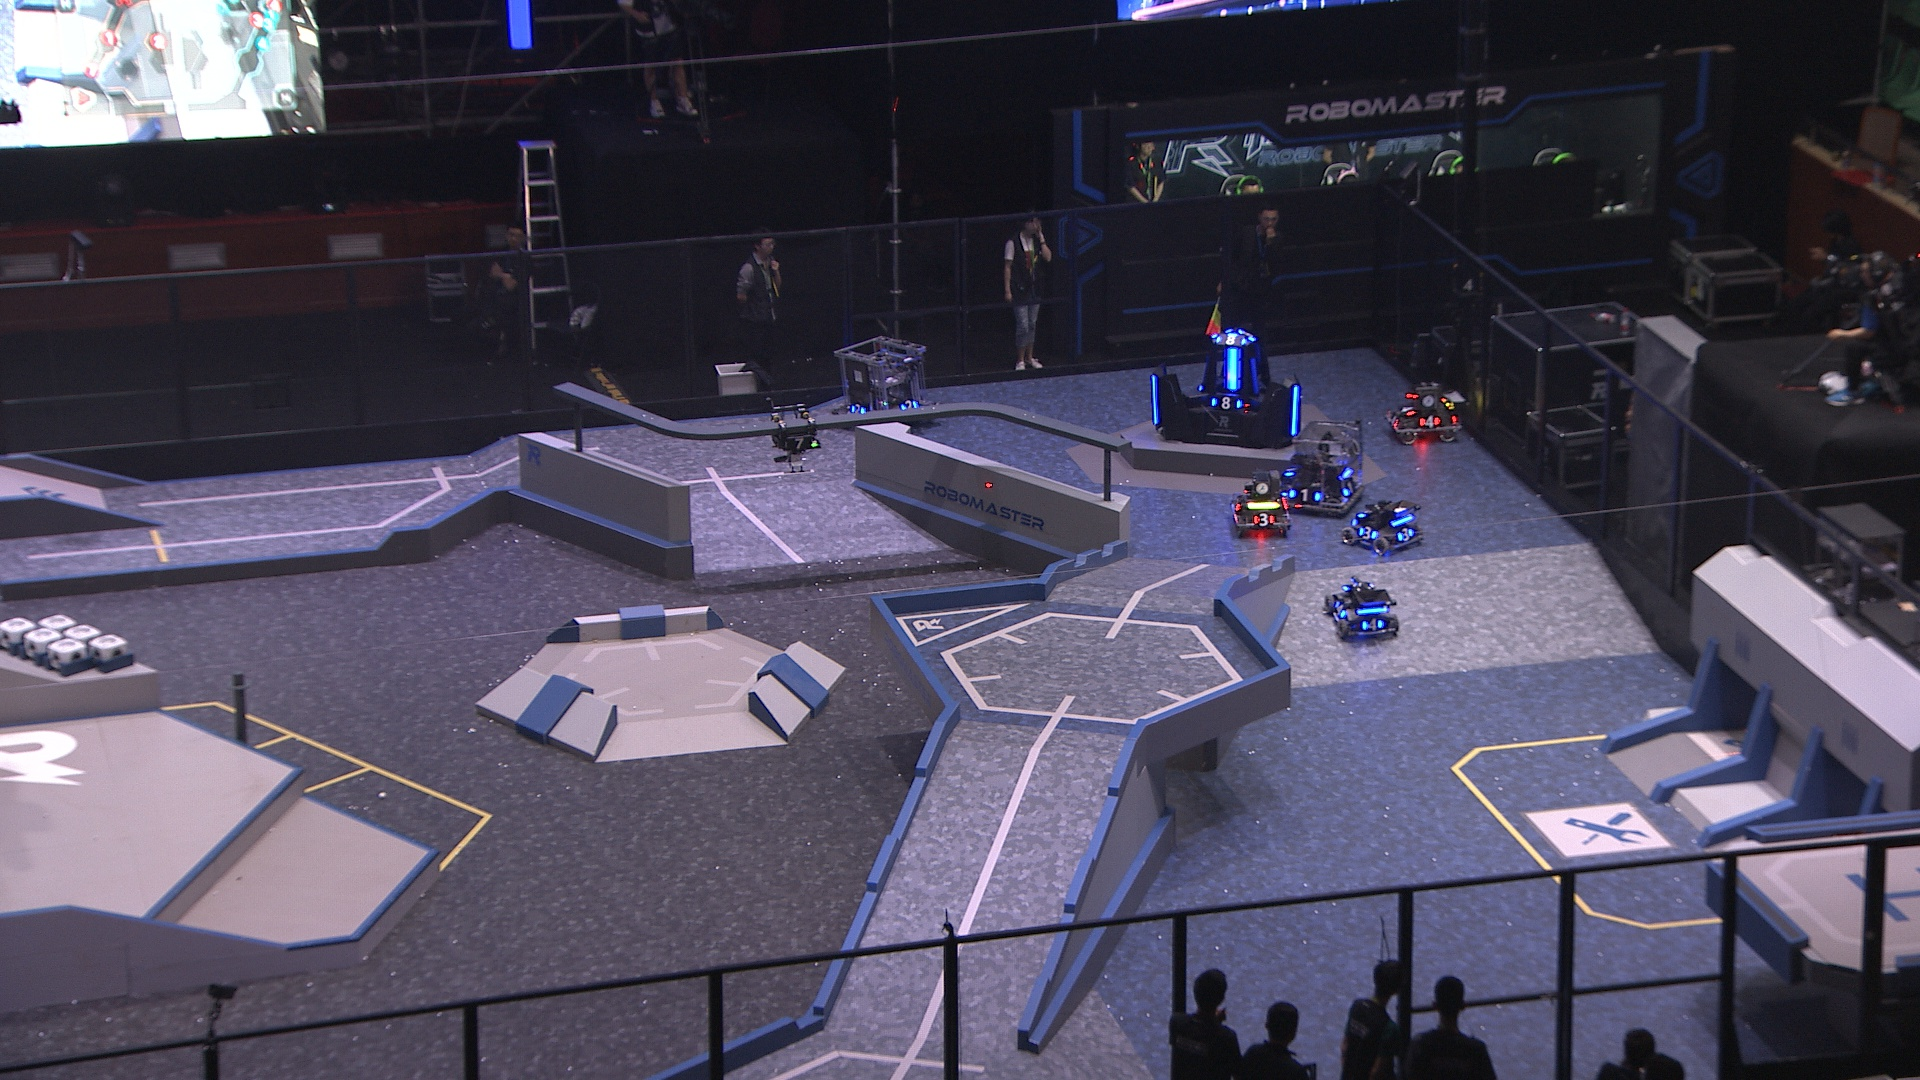armor: (1220, 345, 1242, 394), (1147, 372, 1163, 429), (1288, 382, 1302, 439), (781, 434, 820, 452), (1207, 396, 1244, 413), (1247, 357, 1262, 396), (1216, 330, 1247, 347), (1288, 487, 1323, 502), (1338, 476, 1360, 498), (1356, 524, 1381, 542), (1250, 510, 1276, 527), (1415, 413, 1441, 429), (1395, 524, 1416, 542), (1358, 618, 1387, 632), (1332, 597, 1348, 621), (847, 401, 866, 419), (1283, 462, 1304, 479), (898, 398, 920, 413), (1356, 504, 1375, 520), (1399, 404, 1419, 419), (1387, 413, 1400, 433), (1232, 495, 1244, 514), (1237, 328, 1254, 342)
base: (1141, 328, 1305, 447)
car: (1273, 409, 1370, 518), (829, 334, 936, 433), (1381, 377, 1466, 448), (1321, 570, 1400, 644), (1340, 495, 1427, 555), (1228, 469, 1299, 534)
watcher: (764, 394, 823, 475)
